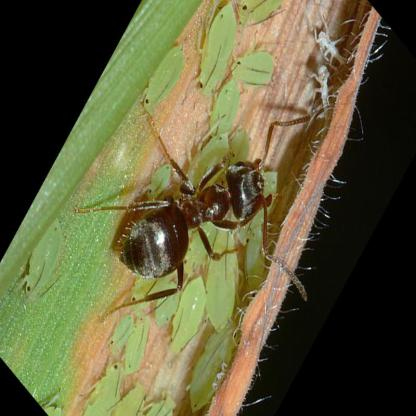schizaphis graminum: (26, 220, 63, 309), (168, 276, 204, 363), (142, 51, 182, 115), (208, 253, 236, 330), (206, 7, 238, 62), (212, 80, 238, 136)
